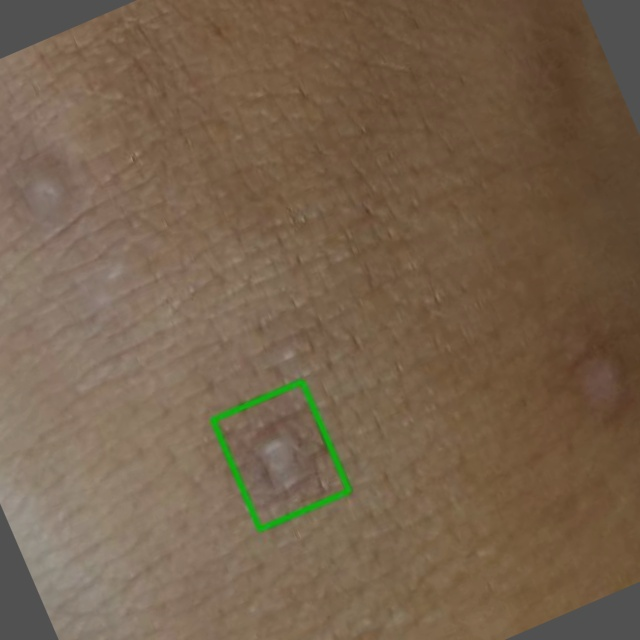Scabies: (212, 381, 349, 529)
